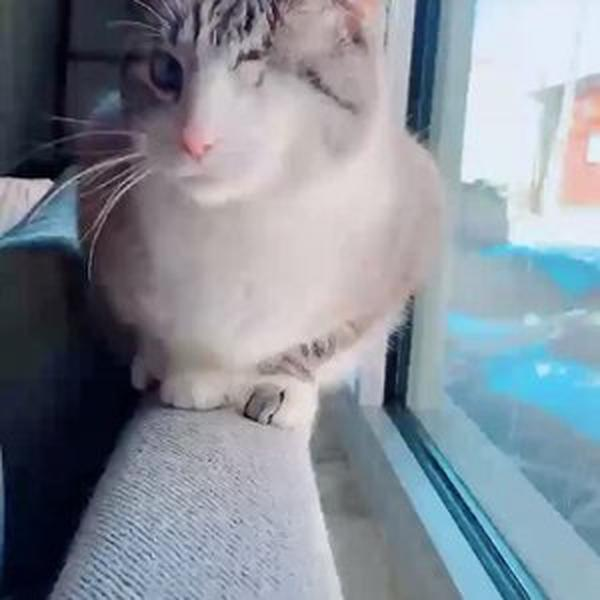michi: (76, 3, 464, 442)
